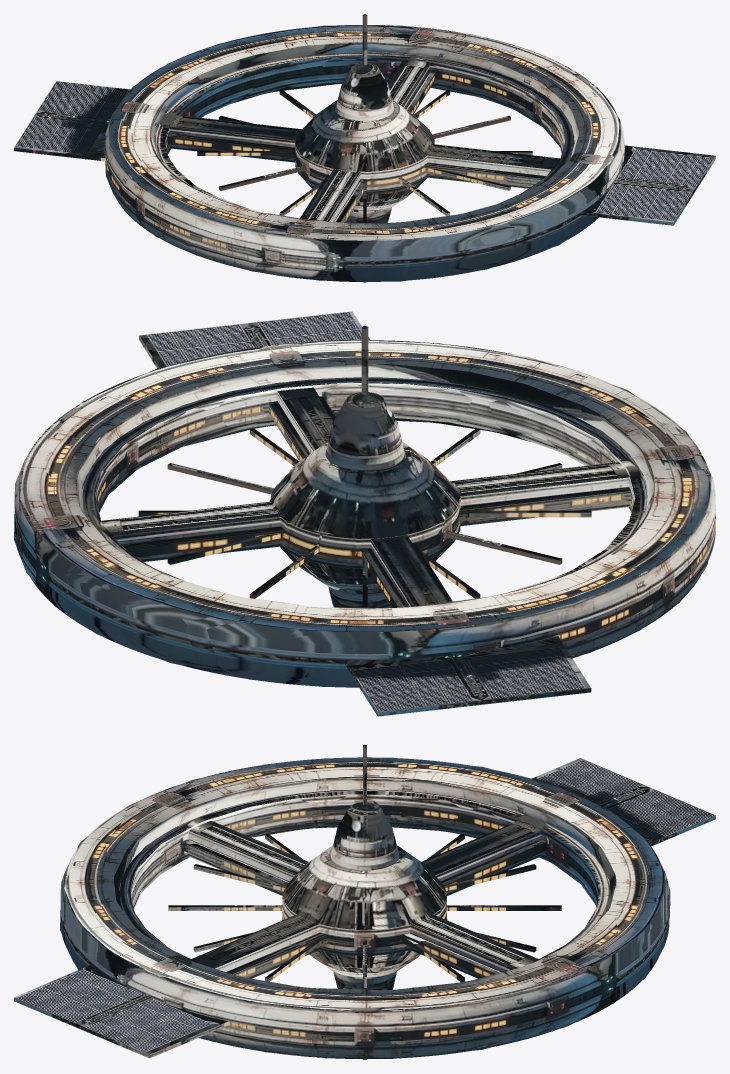
The model's file is sd_st_ankora_m.glb.
The picture shows the model from 3 angles, top to bottom: view 1: azimuth 30°, elevation 25°; view 2: azimuth 150°, elevation 25°; view 3: azimuth 270°, elevation 25°; orthographic projection. The views are drawn at different scales.
Parts seen in each view (by area): view 1: LOD0_body, LOD1_body; view 2: LOD0_body, LOD1_body; view 3: LOD0_body, LOD1_body.
Part boxes in pixels (<box>): LOD0_body: <box>14,14,715,282</box>; LOD1_body: <box>105,25,715,281</box>; LOD0_body: <box>14,311,715,716</box>; LOD1_body: <box>14,337,715,686</box>; LOD0_body: <box>14,745,715,1059</box>; LOD1_body: <box>19,757,670,1058</box>.
Size of the model in its own units: 1 by 0.4918 by 1.
Materials: 1 (1 with a texture image).
